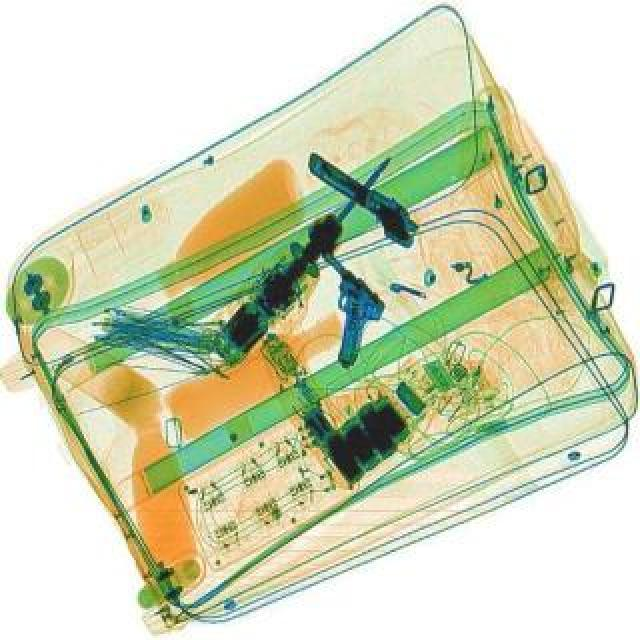gun: (270, 244, 406, 368), (290, 144, 432, 252)
